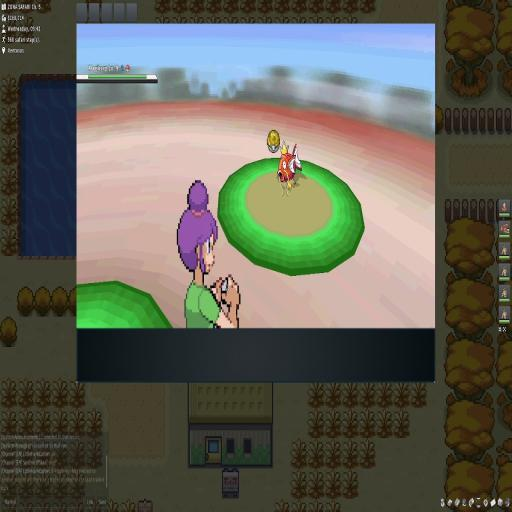MAGIKARP: (276, 140, 303, 195)
